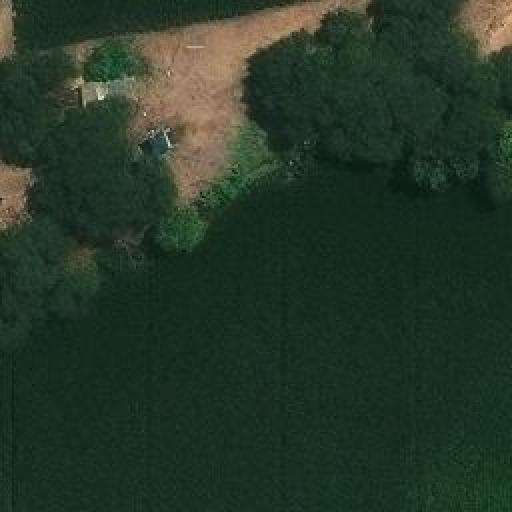manzanas: (69, 73, 176, 169)
